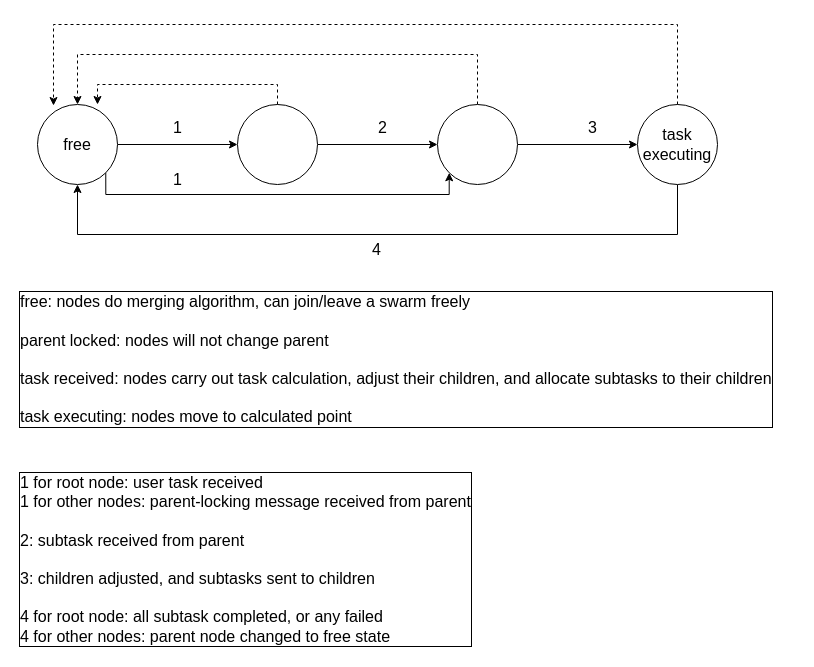
This 814x667 diagram has some shape labels left out. The shapes that lost their labels are listed below. From the top down, each one's box as (x1, y1, x2, y2) in pixels, then its label:
(236, 104, 318, 184): parent locked
(436, 104, 518, 184): task received
